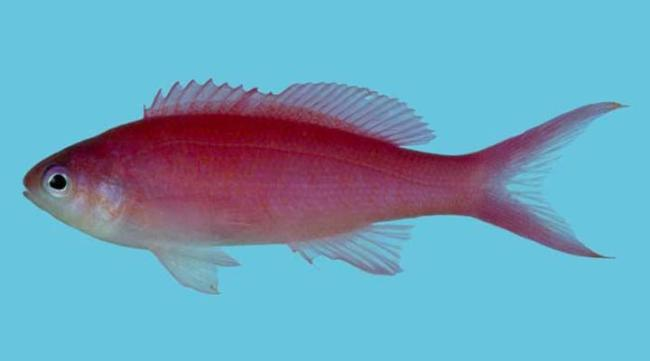fish: (22, 79, 632, 297)
